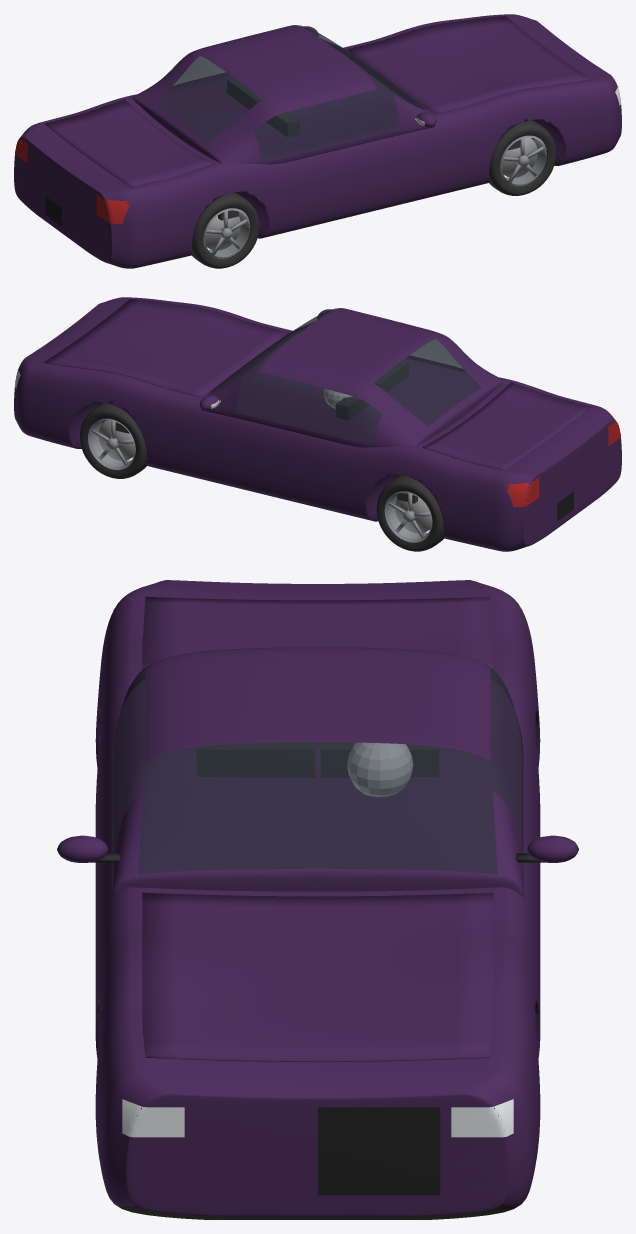
File: derby_galloway_monarch.glb
3 renders of one model, top to bottom at view 1: azimuth 30°, elevation 25°; view 2: azimuth 150°, elevation 25°; view 3: azimuth 270°, elevation 25°, orthographic. The views are drawn at different scales.
Parts seen in each view (by area): view 1: body, cabin, bonnet, bumper_rear, boot, wheel_fr_spin, wheel_rr_spin, bumper_front, interior; view 2: body, cabin, bonnet, bumper_rear, boot, wheel_fl_spin, wheel_rl_spin, bumper_front, interior; view 3: cabin, body, bumper_front, bonnet, boot, interior, bumper_rear, mirror_l, mirror_r.
Part boxes in pixels (x1,y1,x2,y2): body: (39,14,600,267); cabin: (132,25,434,164); bonnet: (347,16,591,114); bumper_rear: (14,123,139,268); boot: (45,99,212,187); wheel_fr_spin: (489,120,555,195); wheel_rr_spin: (192,192,259,268); bumper_front: (500,14,621,155); interior: (227,78,299,137); body: (35,297,596,550); cabin: (201,308,503,447); bonnet: (44,299,288,397); bumper_rear: (496,406,621,551); boot: (423,382,590,470); wheel_fl_spin: (80,403,146,478); wheel_rl_spin: (376,475,443,551); bumper_front: (14,297,135,438); interior: (323,361,408,420); cabin: (112,647,523,897); body: (95,595,540,1167); bumper_front: (99,1054,536,1219); bonnet: (142,892,493,1061); boot: (142,596,493,669); interior: (196,742,439,797); bumper_rear: (107,580,528,626); mirror_l: (515,835,578,862); mirror_r: (57,835,120,862).
Bounding box in the file's own units: 5.01 × 1.35 × 2.21.
